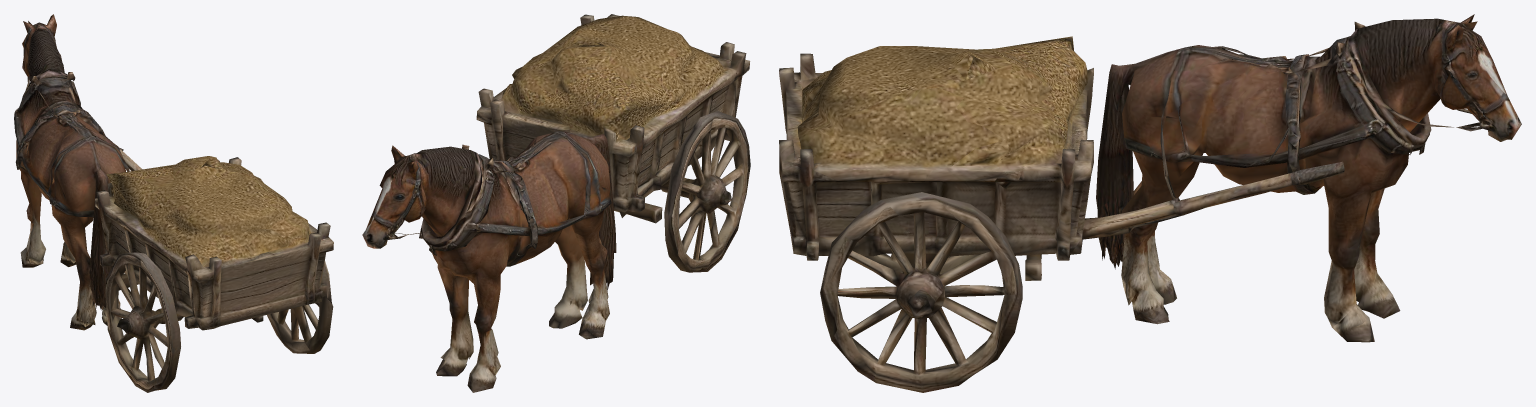
File: prop_horse_cart.glb
3 renders of one model, left to right at view 1: azimuth 30°, elevation 25°; view 2: azimuth 150°, elevation 25°; view 3: azimuth 270°, elevation 25°, orthographic. The views are drawn at different scales.
Visible parts, largest first — view 1: tripo_node_6c61dc98-bf9e-43bb-b10b-915f5eb768a5; view 2: tripo_node_6c61dc98-bf9e-43bb-b10b-915f5eb768a5; view 3: tripo_node_6c61dc98-bf9e-43bb-b10b-915f5eb768a5.
Part boxes in pixels (x1,y1,x2,y2): tripo_node_6c61dc98-bf9e-43bb-b10b-915f5eb768a5: [14, 14, 333, 392]; tripo_node_6c61dc98-bf9e-43bb-b10b-915f5eb768a5: [362, 14, 750, 392]; tripo_node_6c61dc98-bf9e-43bb-b10b-915f5eb768a5: [779, 14, 1521, 392].
Bounding box in the file's own units: 0.4344 × 0.4732 × 0.974.
1 material, 1 textured.
